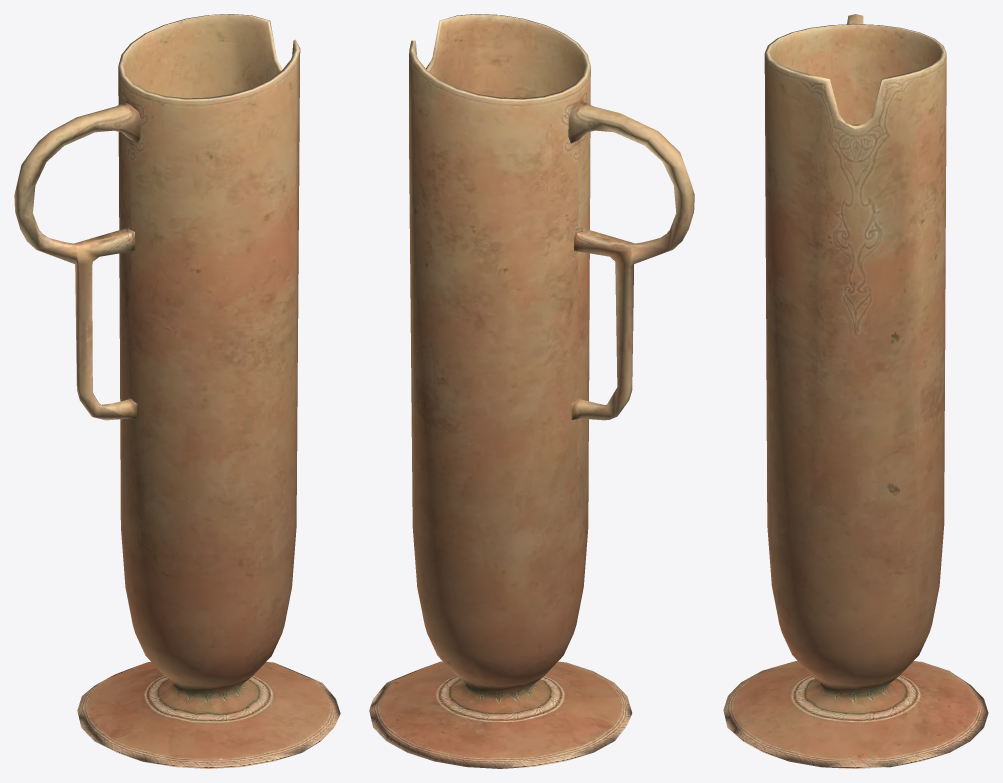
File: brass_vase_04.glb
3 views of the same model, side by side, from view 1: azimuth 30°, elevation 25°; view 2: azimuth 150°, elevation 25°; view 3: azimuth 270°, elevation 25° (orthographic).
Parts seen in each view (by area): view 1: brass_vase_04; view 2: brass_vase_04; view 3: brass_vase_04.
Part boxes in pixels (<box>): brass_vase_04: <box>14,14,340,768</box>; brass_vase_04: <box>369,14,694,768</box>; brass_vase_04: <box>723,14,988,768</box>.
Size of the model in its own units: 0.0817 by 0.1701 by 0.0609.
1 material, 1 textured.
